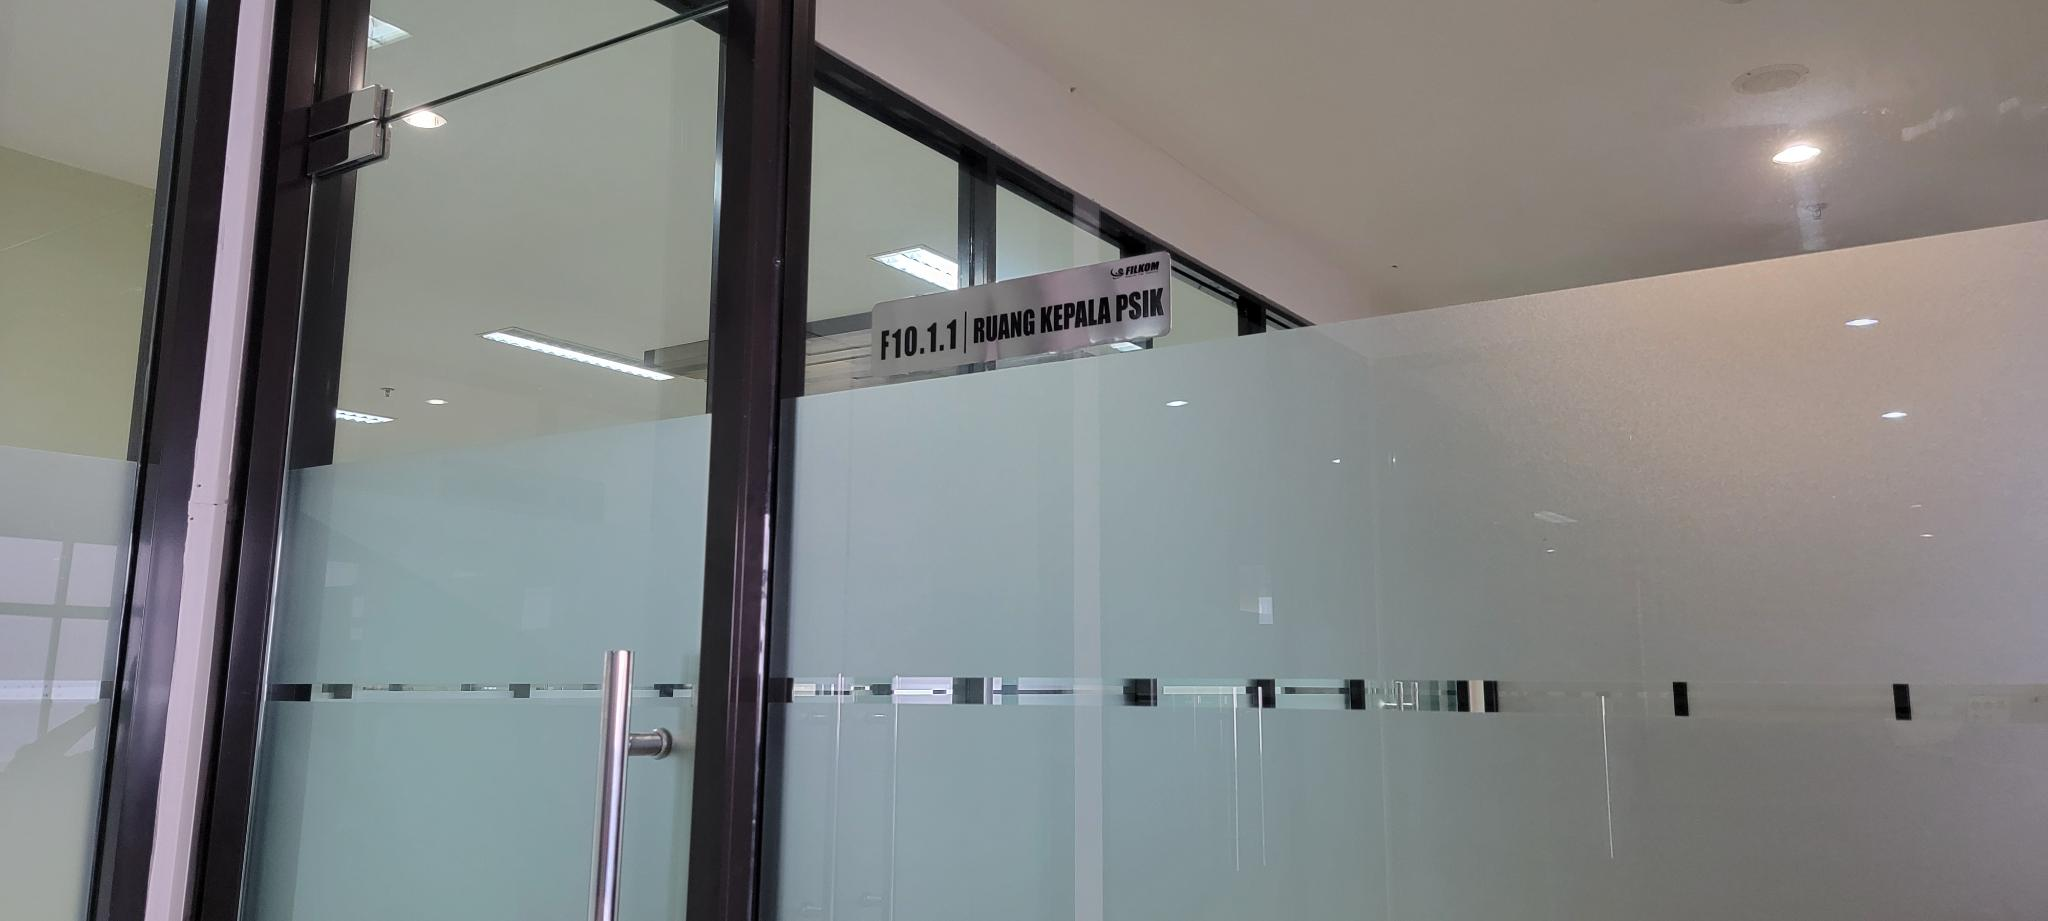plate: (867, 252, 1176, 379)
